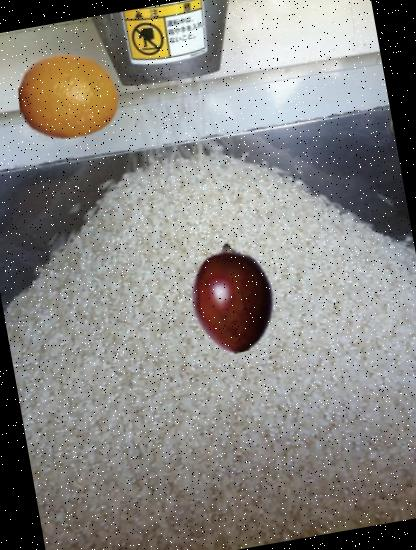Lemon: (10, 37, 128, 154)
Tamarillo: (170, 234, 296, 360)
